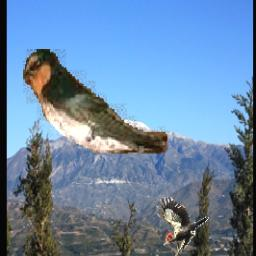Swallow: (23, 50, 167, 156)
Woodpecker: (157, 195, 210, 256)
